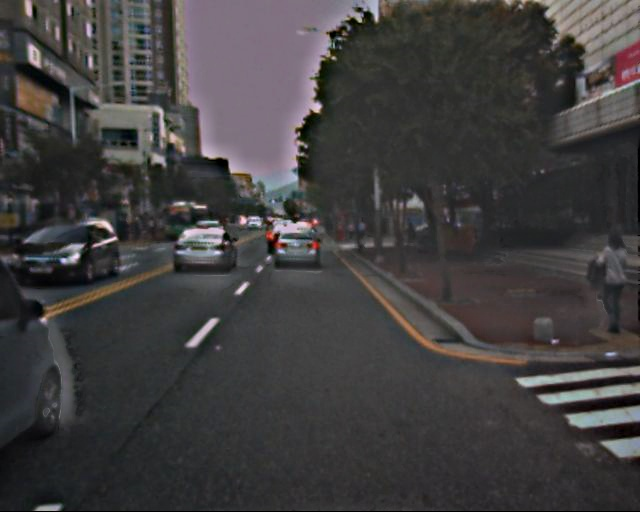person: (588, 231, 635, 333)
